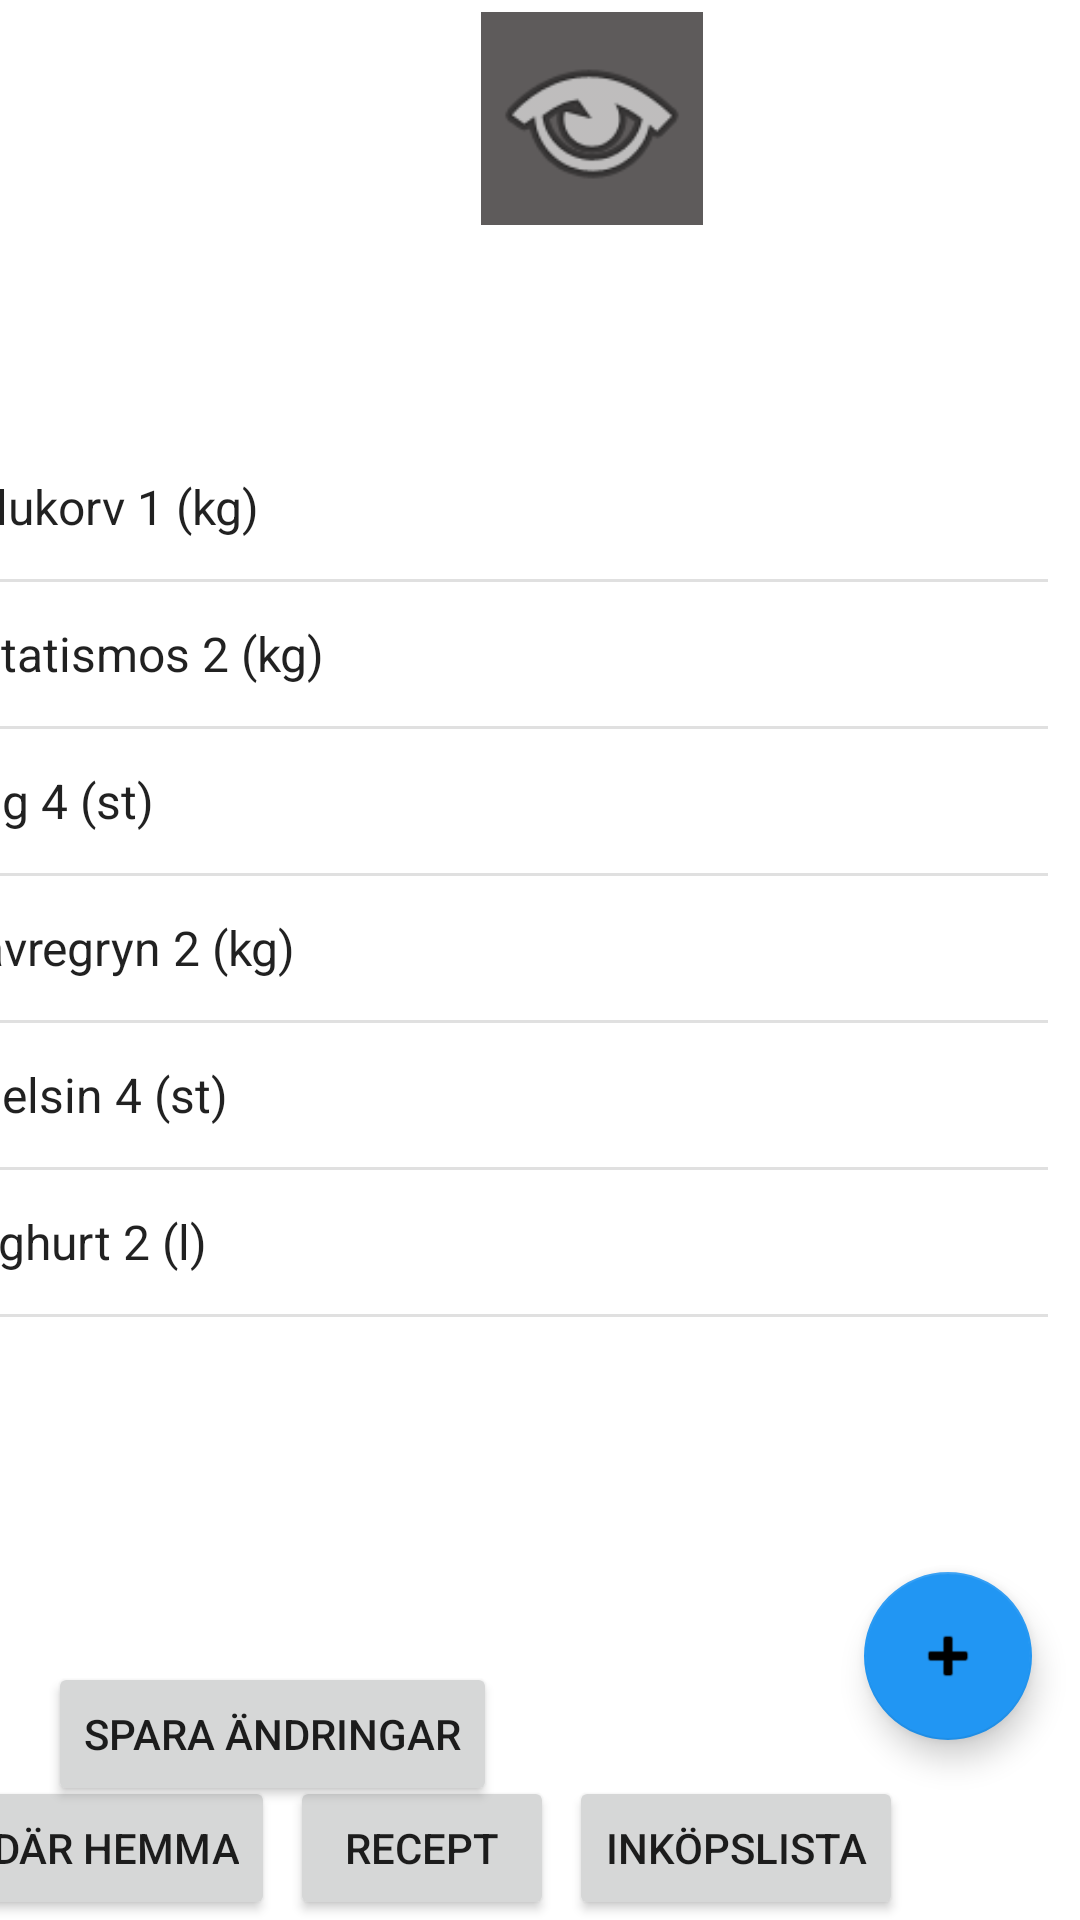

Named icons in this screenshot (1080px×1920px) and their bounding boxes, [x1=x1, y1=y1, x2=x2, y2=y2]:
add: [x1=864, y1=1572, x2=1032, y2=1740]
